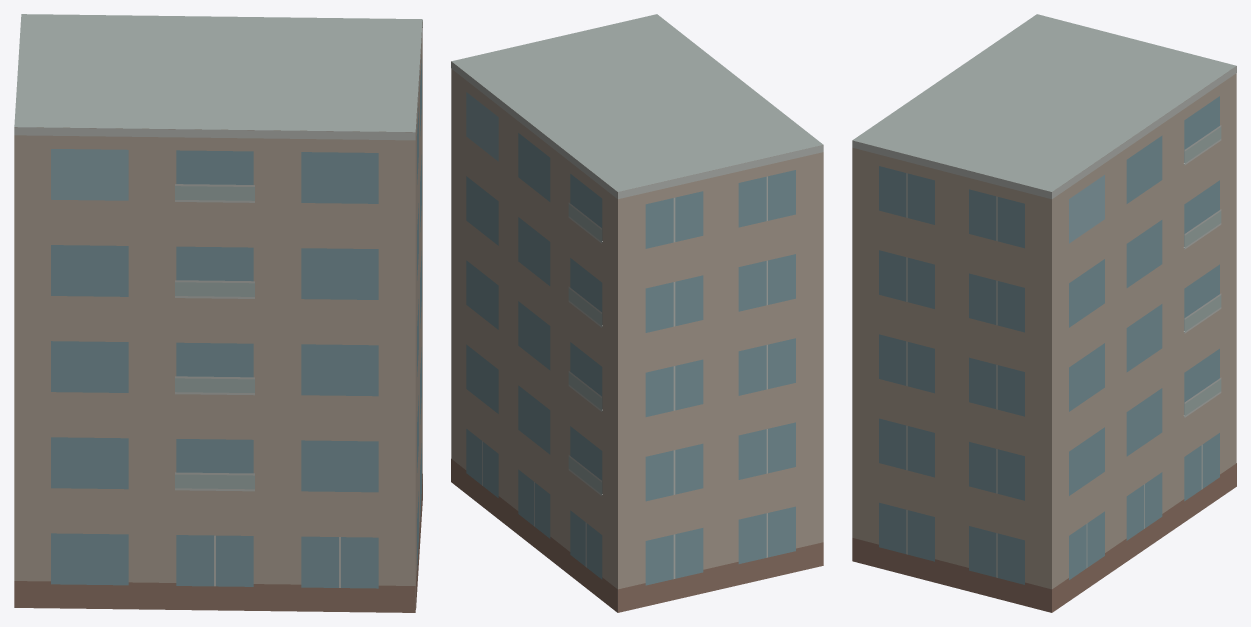
Rendered from survey-upis-32994480.glb.
3 views of the same model, side by side, from view 1: azimuth 30°, elevation 25°; view 2: azimuth 150°, elevation 25°; view 3: azimuth 270°, elevation 25° (orthographic). The views are drawn at different scales.
Parts seen in each view (by area): view 1: survey-upis-32994480.tmp; view 2: survey-upis-32994480.tmp; view 3: survey-upis-32994480.tmp.
Boxes of the visible parts, x1,y1,x2,y2 form: survey-upis-32994480.tmp: [14, 14, 422, 612]; survey-upis-32994480.tmp: [451, 14, 823, 612]; survey-upis-32994480.tmp: [852, 14, 1236, 612].
Size of the model in its own units: 12.9 by 14.2 by 11.77.
